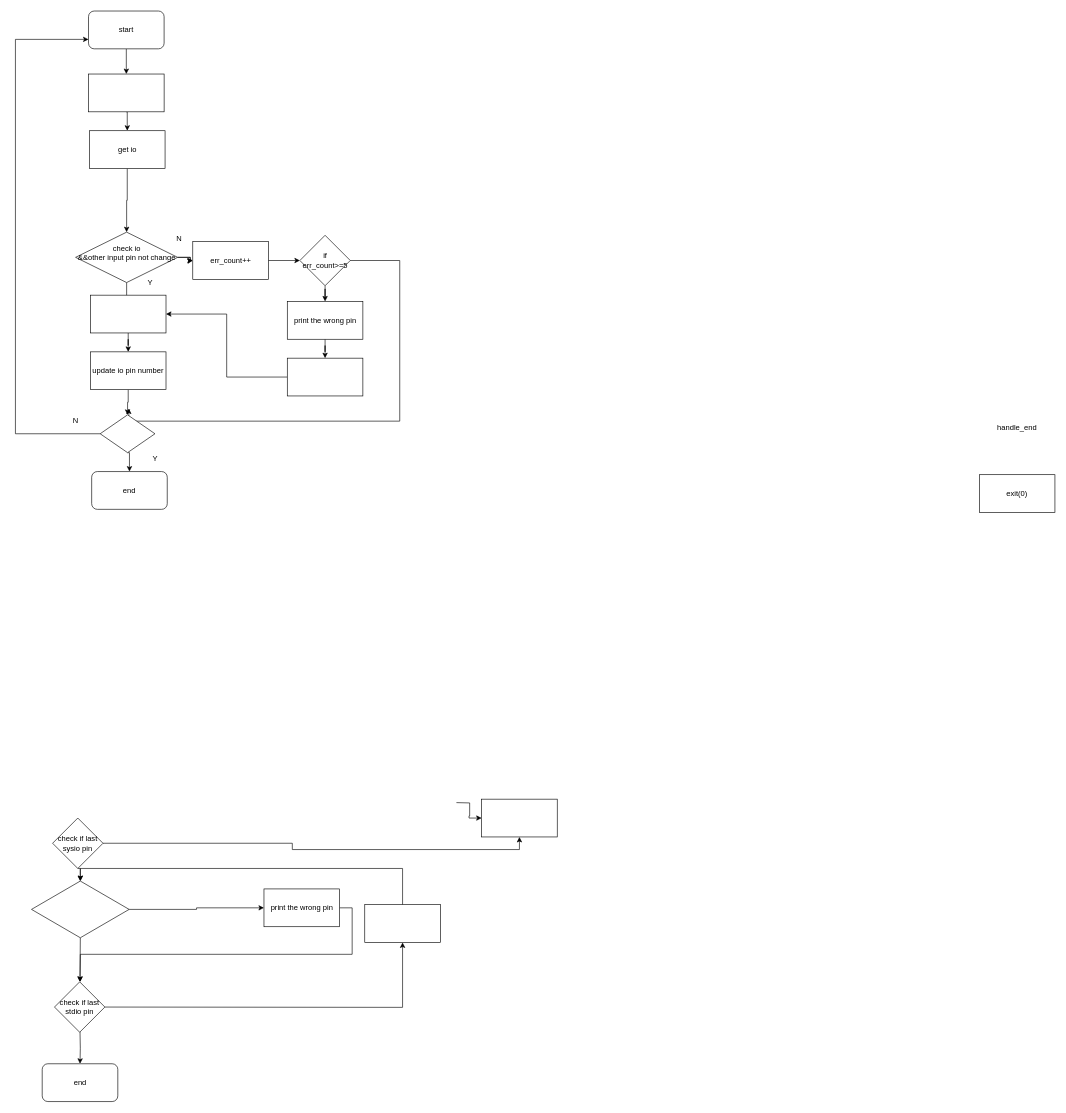
Some shapes in this 1066 by 1113 pixel diagram are drawn without their labels. The box of each missing label's shape, as (x1, y1, x2, y2) in pixels:
check std_io (一對二) &&other input pin not change: (31, 880, 129, 938)
check 是否遍歷完成: (100, 414, 155, 453)
err_count=0: (90, 295, 166, 333)
overall_err置位: (287, 358, 363, 396)
set io: (88, 73, 164, 112)
update stdio pin number: (364, 904, 440, 942)
update sysio pin number: (481, 799, 557, 837)
